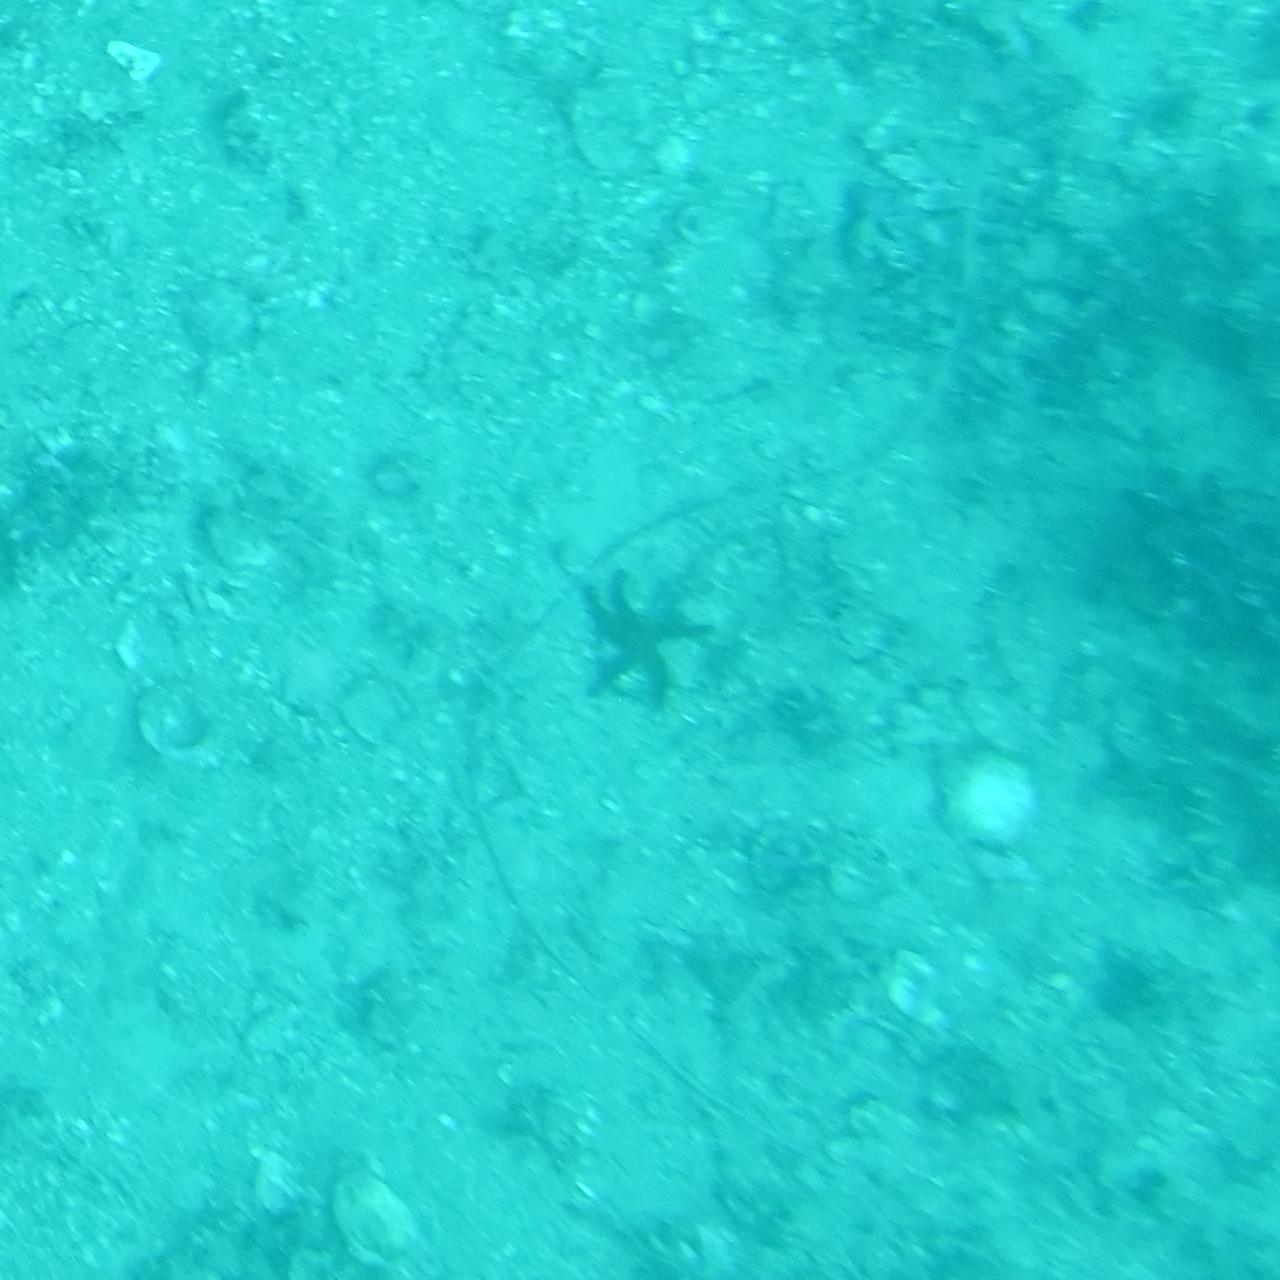Asteroidea: (560, 563, 720, 717)
